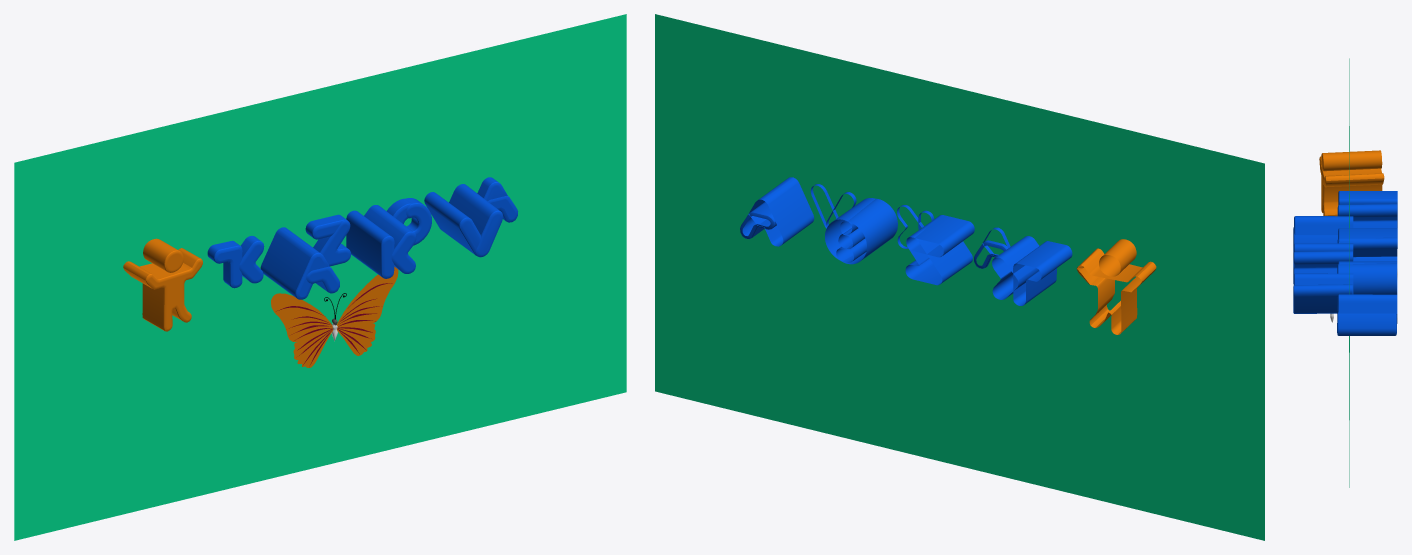
Rendered from anima.glb.
3 views of the same model, side by side, from view 1: azimuth 30°, elevation 25°; view 2: azimuth 150°, elevation 25°; view 3: azimuth 270°, elevation 25° (orthographic). The views are drawn at different scales.
Parts seen in each view (by area): view 1: Plane, NurbsPath.002, NurbsPath.012, NurbsPath.013, NurbsPath.009, Plane.003, Plane.004, NurbsPath.010, NurbsPath.011, NurbsPath.014, NurbsPath.001; view 2: Plane, NurbsPath.002, NurbsPath.010, NurbsPath.011, NurbsPath.014, NurbsPath.001; view 3: NurbsPath.002, NurbsPath.001, NurbsPath.013, NurbsPath.010, NurbsPath.011, NurbsPath.014, NurbsPath.012, NurbsPath.009, Plane.
Part boxes in pixels (bbox=[...]): Plane: bbox=[14, 14, 626, 540]; NurbsPath.002: bbox=[123, 238, 202, 331]; NurbsPath.012: bbox=[346, 205, 416, 278]; NurbsPath.013: bbox=[424, 184, 502, 257]; NurbsPath.009: bbox=[260, 227, 339, 299]; Plane.003: bbox=[271, 293, 333, 367]; Plane.004: bbox=[337, 266, 398, 355]; NurbsPath.010: bbox=[207, 236, 264, 288]; NurbsPath.011: bbox=[305, 214, 350, 266]; NurbsPath.014: bbox=[387, 198, 431, 245]; NurbsPath.001: bbox=[477, 177, 517, 222]; Plane: bbox=[655, 14, 1264, 540]; NurbsPath.002: bbox=[1076, 239, 1156, 334]; NurbsPath.010: bbox=[992, 236, 1072, 305]; NurbsPath.011: bbox=[905, 215, 974, 285]; NurbsPath.014: bbox=[825, 198, 897, 264]; NurbsPath.001: bbox=[740, 177, 814, 246]; NurbsPath.002: bbox=[1319, 150, 1384, 216]; NurbsPath.001: bbox=[1337, 294, 1397, 335]; NurbsPath.013: bbox=[1293, 273, 1353, 313]; NurbsPath.010: bbox=[1337, 191, 1397, 227]; NurbsPath.011: bbox=[1337, 228, 1397, 261]; NurbsPath.014: bbox=[1337, 261, 1397, 294]; NurbsPath.012: bbox=[1293, 243, 1353, 283]; NurbsPath.009: bbox=[1293, 216, 1353, 253]; Plane: bbox=[1349, 58, 1349, 487].
Size of the model in its own units: 6.31 by 3.73 by 1.2.
